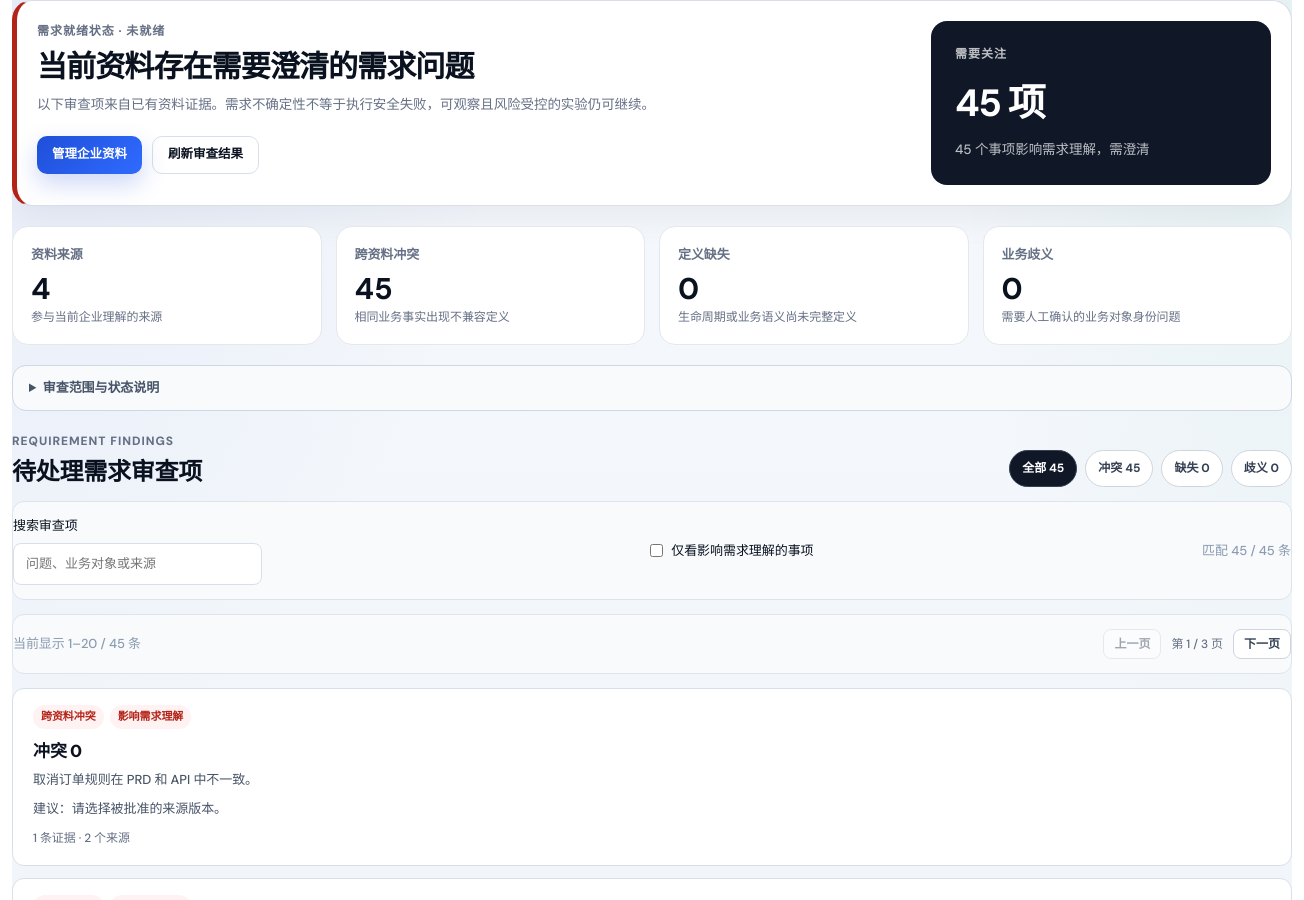
Requirement Intelligence workspace › bounds large finding responses to a page while keeping every item reachable
The width and height of the screenshot is (1304, 900).
Expected: the text "第 1 / 3 页" is shown, [1171,635,1223,653]
Expected: the text "当前显示 1–20 / 45 条" is shown, [13,634,141,654]
Step 1. Click the button "下一页" → (1262, 644), box [1233,629,1291,659]
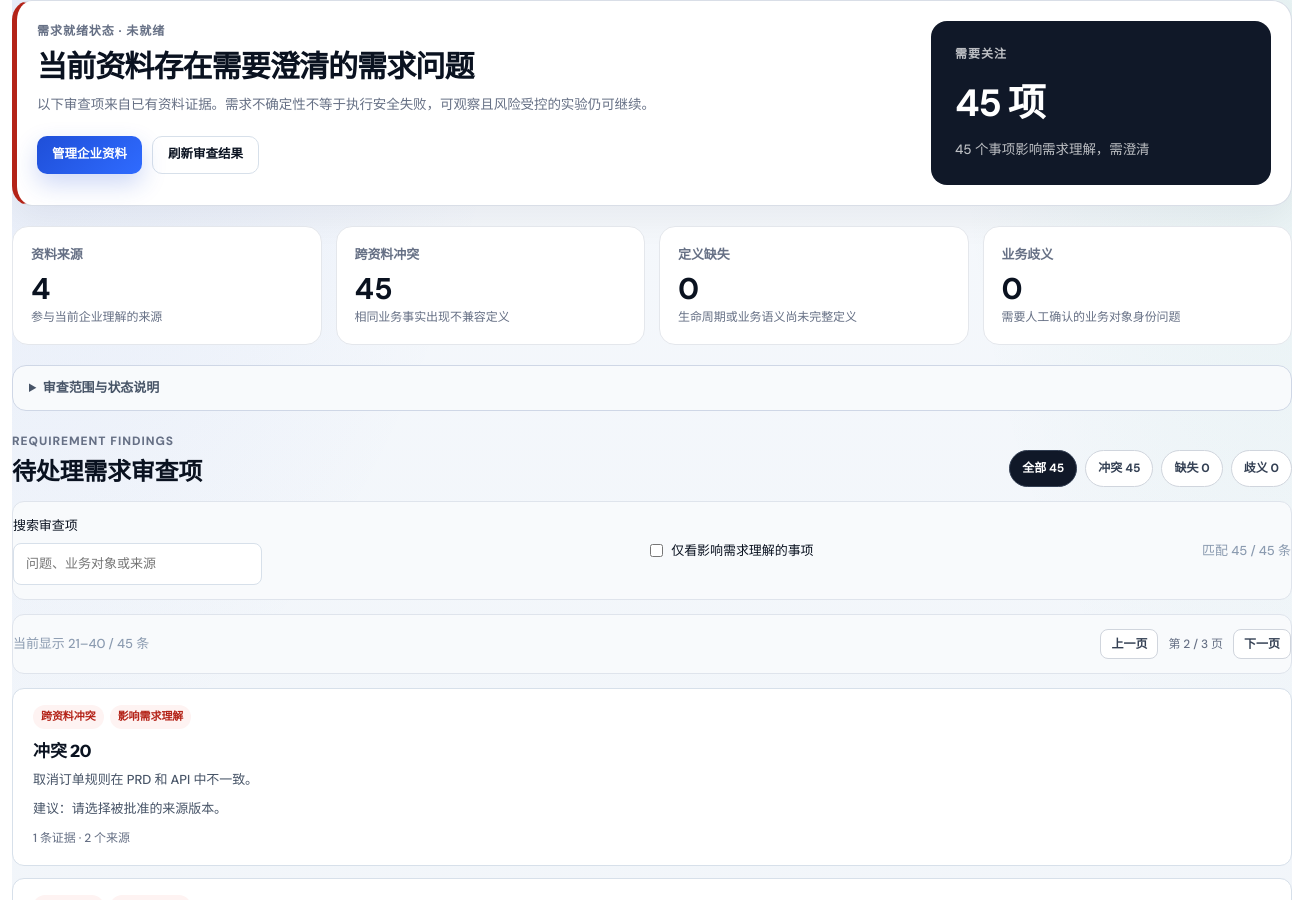
Result: the text "第 2 / 3 页" is shown at [1168,635,1223,653]
Result: the button "冲突 20" is shown at [33,739,91,764]
